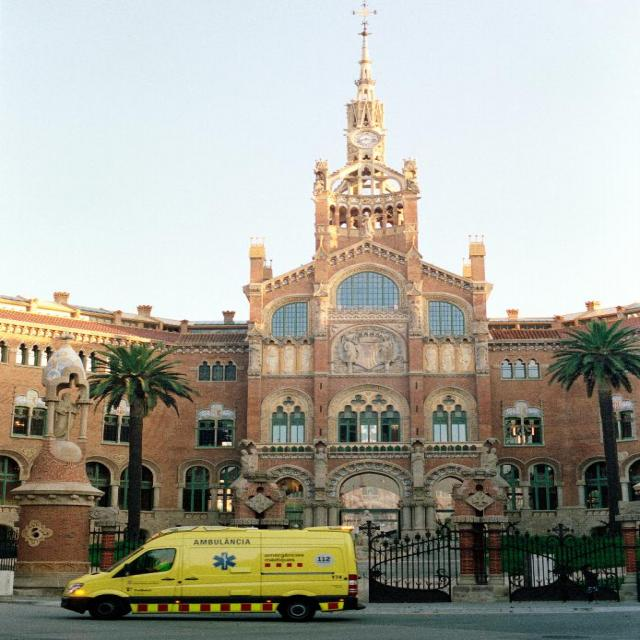Ambulance: (61, 531, 364, 621)
